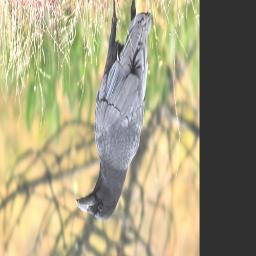Crow: (76, 0, 154, 222)
